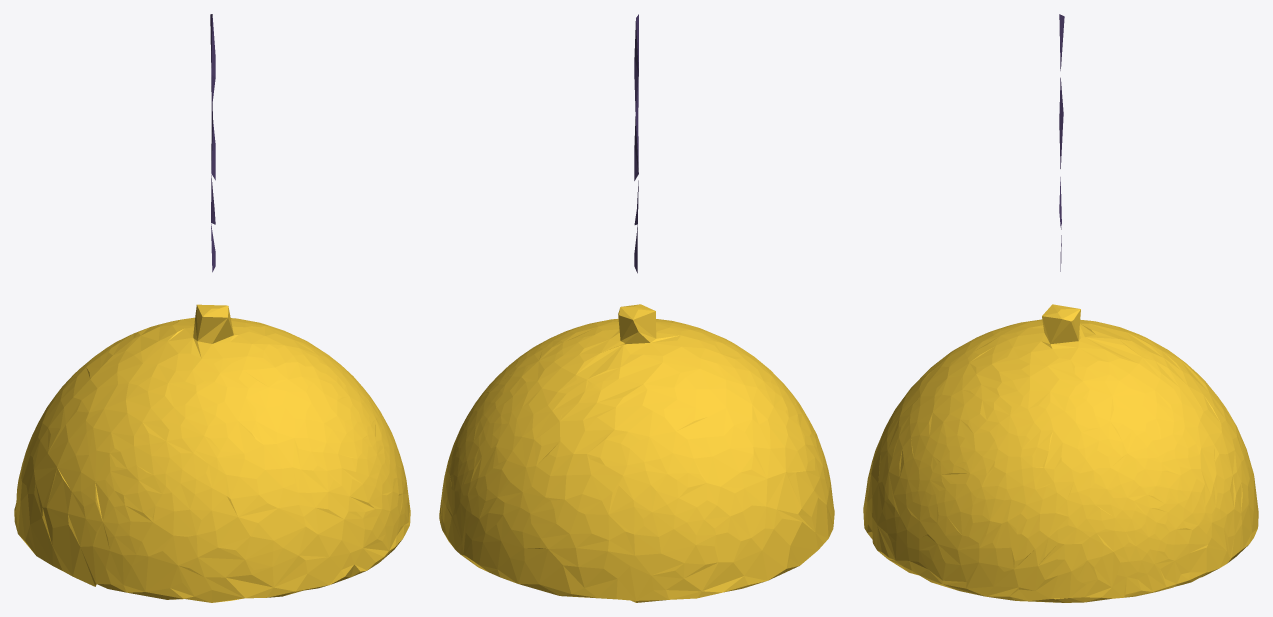
Rendered from lamp.glb.
3 views of the same model, side by side, from view 1: azimuth 30°, elevation 25°; view 2: azimuth 150°, elevation 25°; view 3: azimuth 270°, elevation 25° (orthographic).
Visible parts, largest first — view 1: shade, cord; view 2: shade, cord; view 3: shade, cord.
Part boxes in pixels (x1,y1,x2,y2): shade: [14, 304, 410, 602]; cord: [210, 14, 215, 272]; shade: [439, 304, 834, 602]; cord: [634, 14, 638, 273]; shade: [863, 304, 1258, 602]; cord: [1059, 14, 1064, 271].
Size of the model in its own units: 0.6834 by 0.9695 by 0.6838.
